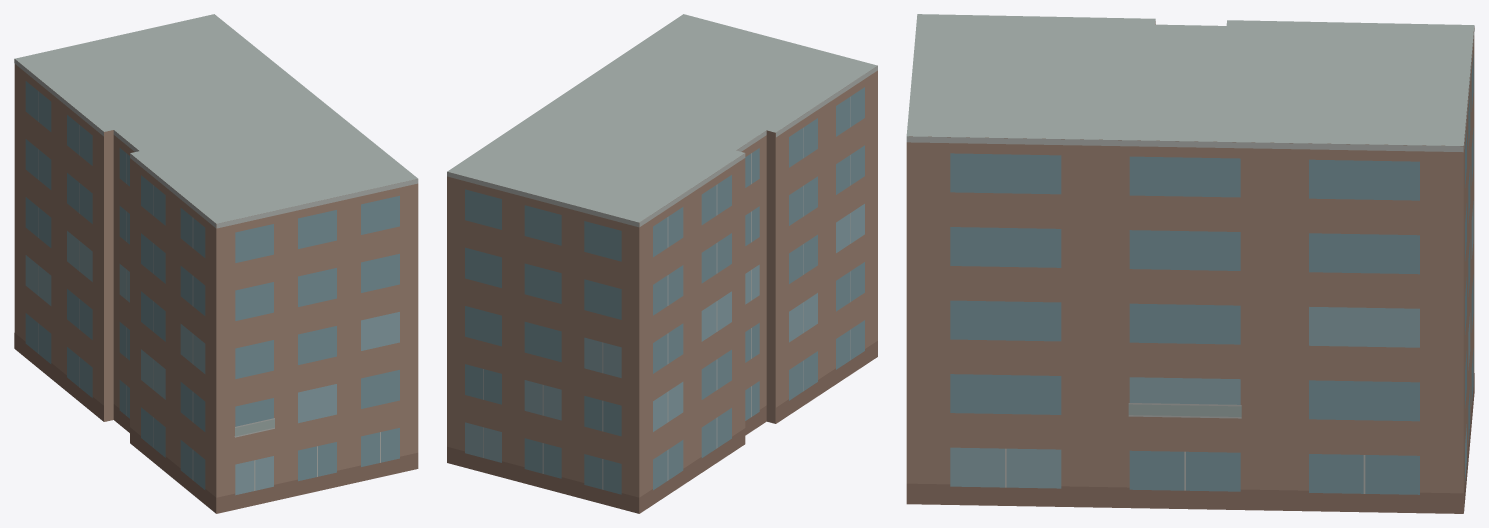
The model's file is survey-upis-32982781.glb.
3 views of the same model, side by side, from view 1: azimuth 30°, elevation 25°; view 2: azimuth 150°, elevation 25°; view 3: azimuth 270°, elevation 25° (orthographic). The views are drawn at different scales.
Visible parts, largest first — view 1: survey-upis-32982781.tmp; view 2: survey-upis-32982781.tmp; view 3: survey-upis-32982781.tmp.
Part boxes in pixels (x1,y1,x2,y2): survey-upis-32982781.tmp: [14, 14, 418, 513]; survey-upis-32982781.tmp: [447, 14, 877, 513]; survey-upis-32982781.tmp: [906, 14, 1474, 513].
Size of the model in its own units: 11.41 by 14.8 by 20.72.
